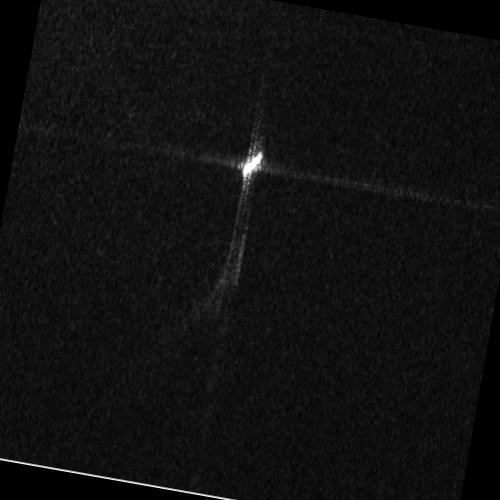ship: (241, 150, 264, 178)
